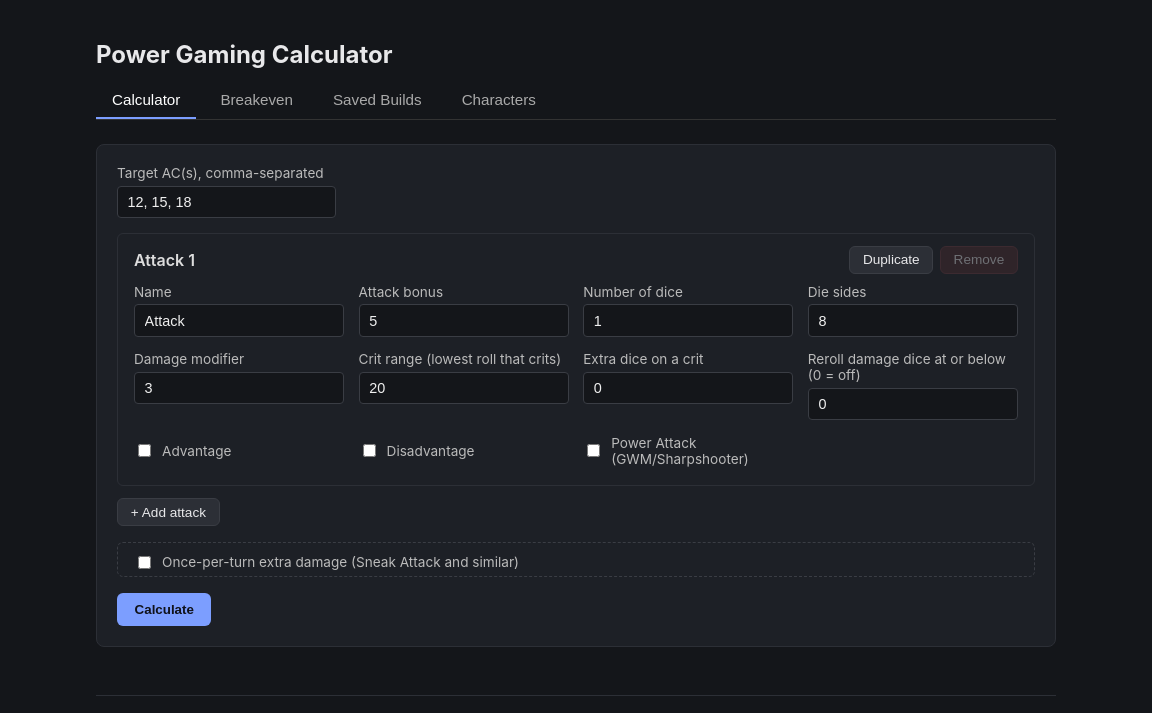
Test case: App › starts on the calculator and switches tabs
This screenshot has width=1152, height=713.
Expected: the button "Calculate" is shown, [117,593,212,626]
Click the button "Breakeven": (257, 100) [204,81,309,119]
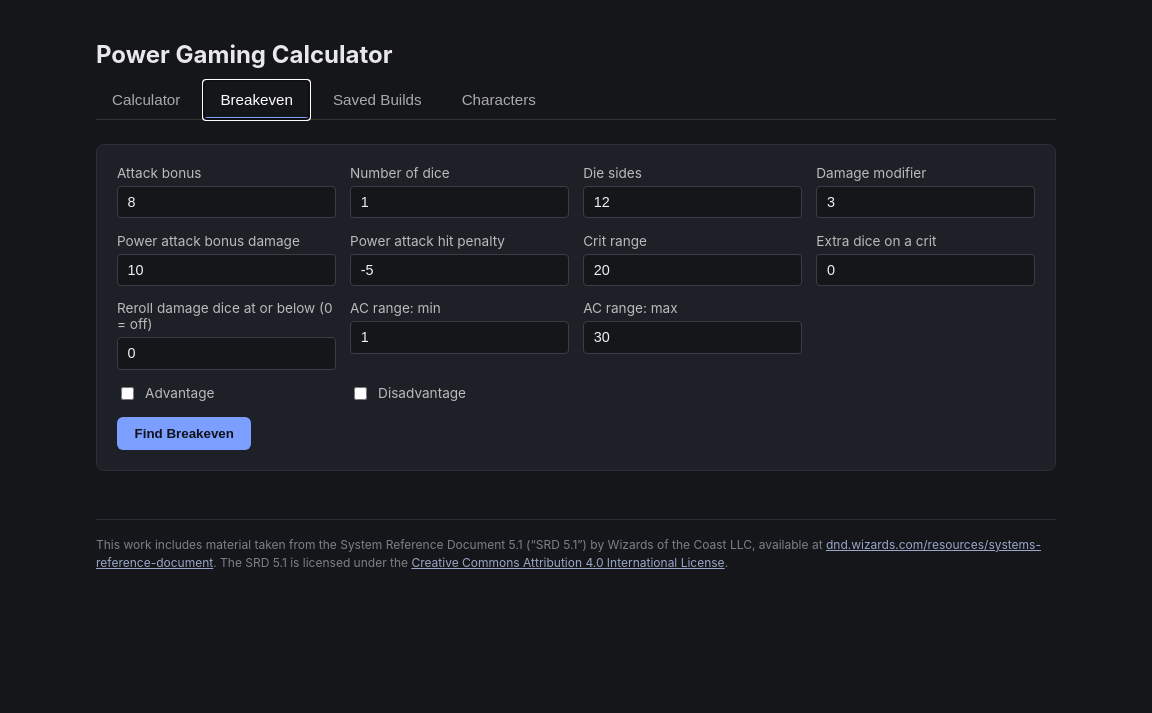
Expected: the button "Find Breakeven" is shown, [117,417,252,450]
Expected: the button "Calculate" is gone
Click the button "Saved Builds": (377, 100) [317,81,438,119]
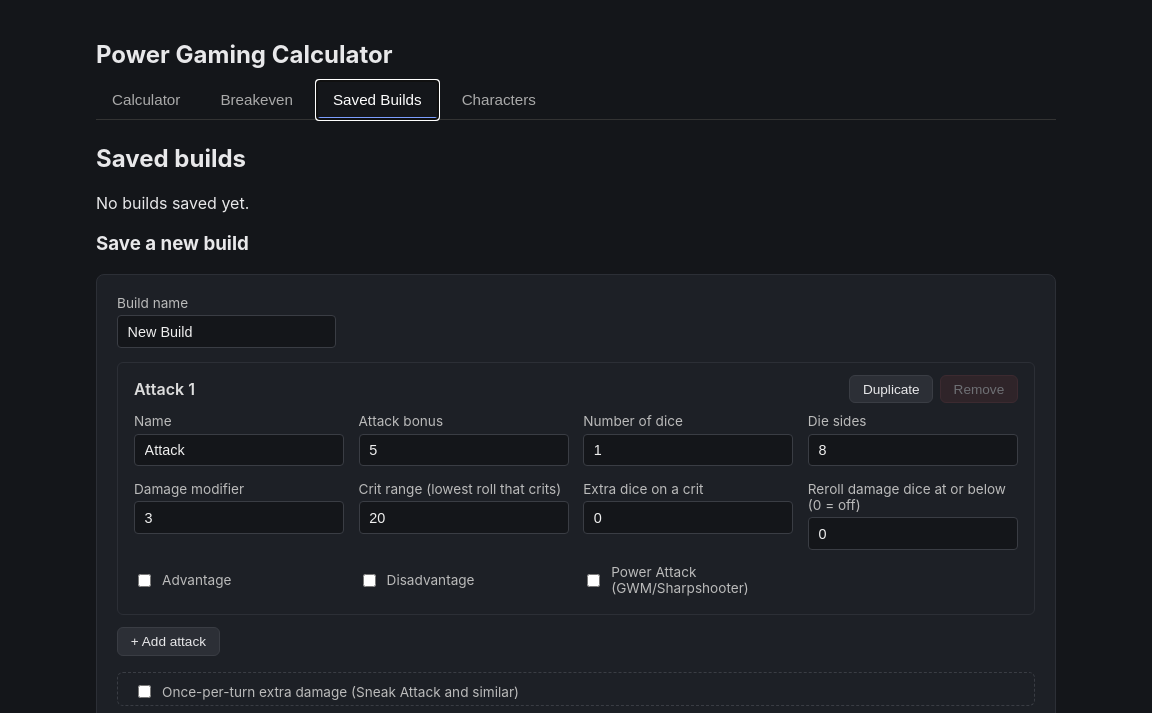
Expected: the text "No builds saved yet." is shown, [96,193,249,213]
